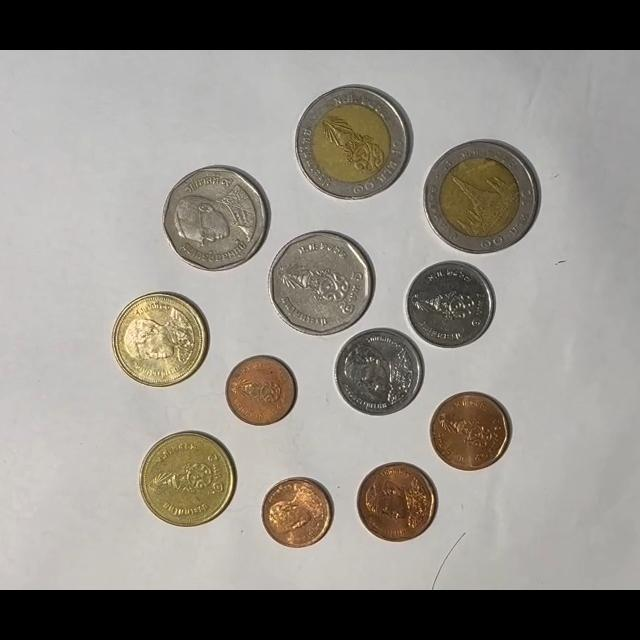1-baht: (405, 260, 496, 350), (334, 327, 424, 417)
10-baht: (294, 84, 412, 201), (423, 140, 539, 254)
2-baht: (139, 431, 236, 528), (112, 292, 208, 389)
25-satang: (261, 476, 333, 549), (225, 355, 296, 426)
5-baht: (268, 230, 375, 337), (162, 167, 270, 272)
50-satang: (357, 462, 438, 544), (429, 392, 511, 471)
